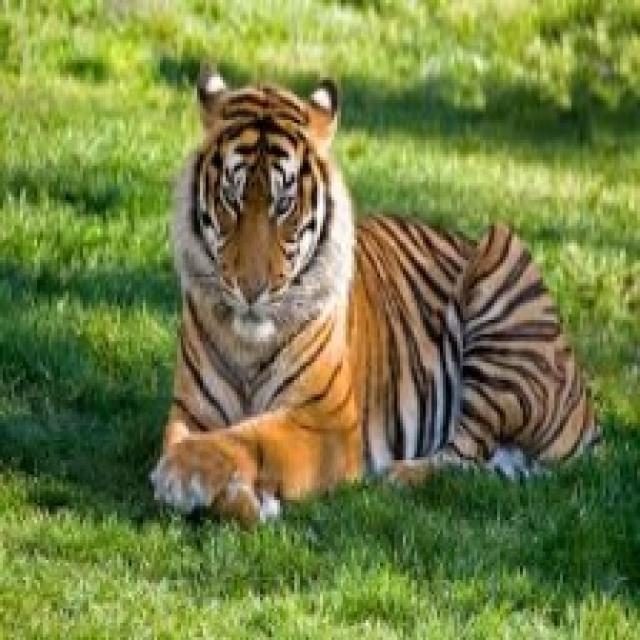bear: (112, 58, 640, 580)
